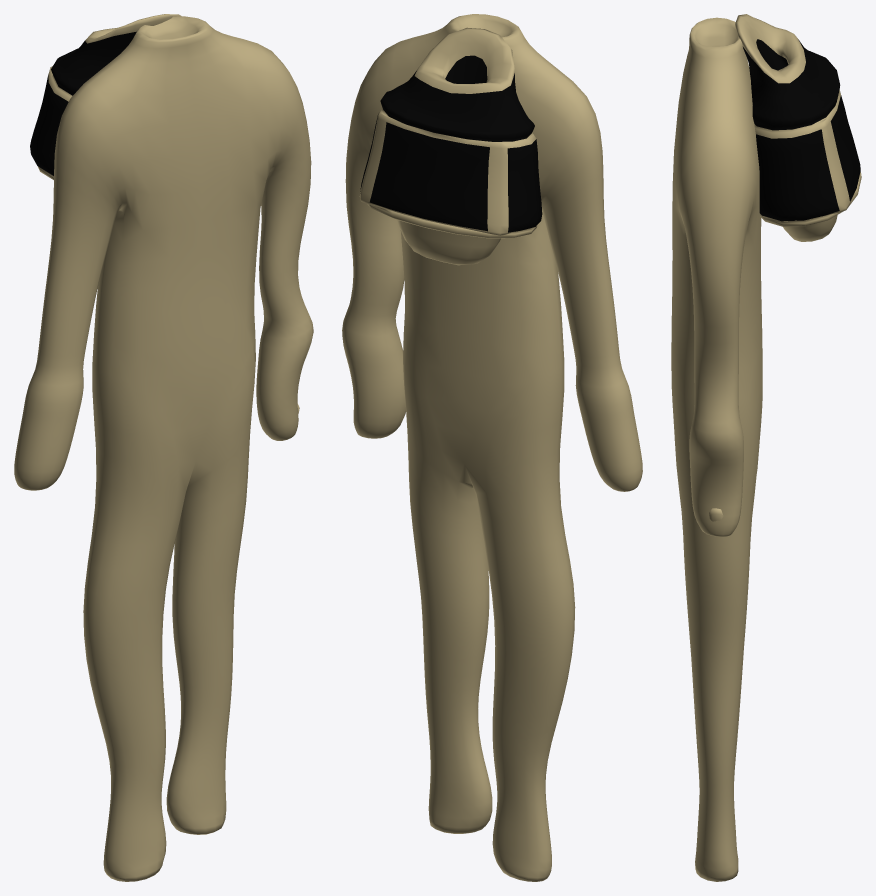
Rendered from Mesh_Bee_Suit_Tex_001.fbx.
3 views of the same model, side by side, from view 1: azimuth 30°, elevation 25°; view 2: azimuth 150°, elevation 25°; view 3: azimuth 270°, elevation 25° (orthographic). The views are drawn at different scales.
Visible parts, largest first — view 1: Mesh_BeeSuit, Mesh_Beesuit_Helm (×2); view 2: Mesh_BeeSuit, Mesh_Beesuit_Helm (×2); view 3: Mesh_BeeSuit, Mesh_Beesuit_Helm (×2).
Boxes of the visible parts, bbox=[...] form: Mesh_BeeSuit: bbox=[14, 16, 313, 881]; Mesh_Beesuit_Helm (×2): bbox=[30, 14, 181, 179]; Mesh_BeeSuit: bbox=[342, 14, 642, 881]; Mesh_Beesuit_Helm (×2): bbox=[359, 27, 542, 265]; Mesh_BeeSuit: bbox=[671, 17, 762, 881]; Mesh_Beesuit_Helm (×2): bbox=[735, 14, 861, 241].
Bounding box in the file's own units: 715 × 1957 × 391.
